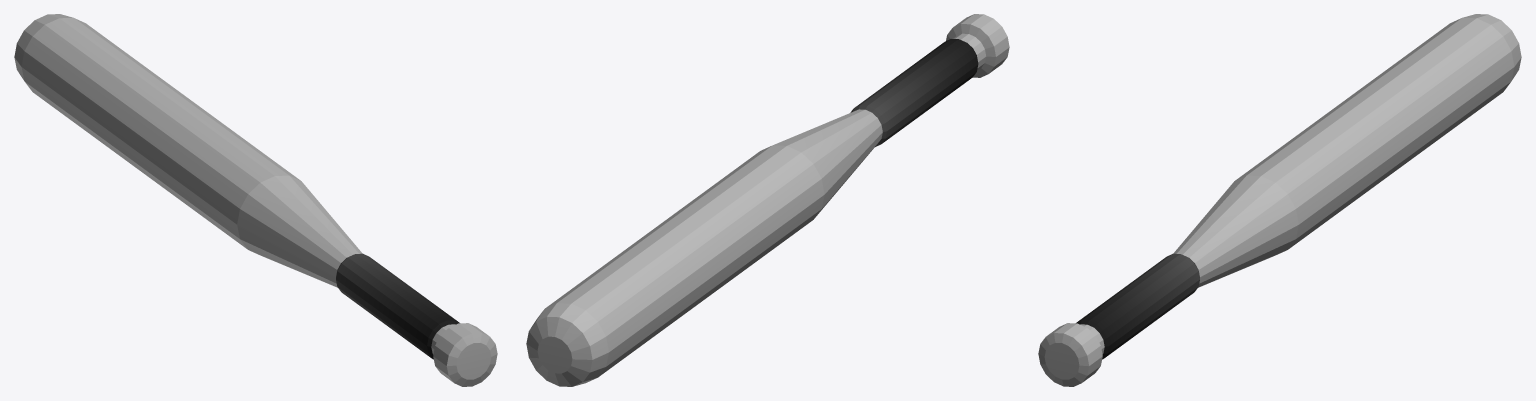
The model's file is taco.fbx.
The picture shows the model from 3 angles, left to right: view 1: azimuth 30°, elevation 25°; view 2: azimuth 150°, elevation 25°; view 3: azimuth 330°, elevation 25°; orthographic projection.
Parts seen in each view (by area): view 1: taco; view 2: taco; view 3: taco.
Part boxes in pixels (left/top/right/bottom): taco: left=14, top=14, right=497, bottom=386; taco: left=526, top=14, right=1009, bottom=386; taco: left=1038, top=14, right=1521, bottom=386.
Size of the model in its own units: 16.14 by 16.14 by 160.
